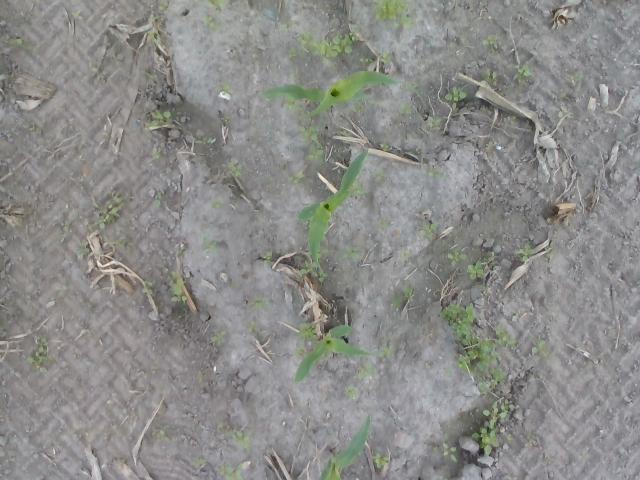Maize: (298, 149, 368, 276), (258, 70, 426, 119), (292, 324, 372, 384), (318, 415, 372, 480)
Weeds: (439, 300, 506, 394), (297, 28, 361, 64), (370, 0, 414, 27), (158, 264, 188, 302), (94, 192, 124, 228), (482, 399, 516, 429), (218, 424, 252, 452), (26, 338, 50, 374), (472, 427, 499, 456), (298, 260, 328, 283), (468, 256, 497, 279), (493, 323, 519, 347), (58, 211, 78, 242), (443, 86, 468, 109), (296, 322, 320, 344), (145, 109, 171, 129), (392, 286, 413, 308), (283, 94, 303, 115), (514, 243, 536, 262), (512, 64, 531, 86), (219, 464, 243, 480), (357, 361, 376, 380), (419, 221, 438, 240), (448, 248, 467, 267), (298, 125, 318, 143), (531, 338, 549, 358), (306, 143, 323, 164), (152, 425, 171, 442), (442, 442, 458, 462), (23, 120, 46, 132), (248, 297, 269, 310), (202, 236, 219, 252), (146, 28, 162, 44), (350, 180, 366, 196), (372, 452, 388, 468), (203, 15, 218, 32), (76, 241, 90, 259), (216, 82, 235, 95), (226, 161, 242, 176), (108, 236, 125, 250), (483, 68, 498, 83), (344, 384, 358, 400), (556, 106, 573, 119), (306, 248, 328, 258), (428, 164, 442, 179), (427, 116, 442, 130), (379, 344, 394, 358), (481, 35, 500, 46), (343, 246, 359, 259), (294, 343, 308, 357), (212, 330, 226, 344), (288, 172, 304, 184), (525, 430, 536, 447), (141, 280, 154, 294), (278, 20, 295, 30), (379, 50, 391, 64), (208, 0, 226, 9), (10, 38, 26, 48), (352, 101, 365, 113), (399, 102, 412, 114), (210, 196, 224, 207), (373, 169, 387, 180), (190, 458, 206, 467), (401, 248, 412, 260), (378, 218, 390, 229), (569, 74, 582, 84), (88, 61, 98, 74), (158, 0, 168, 12), (56, 284, 66, 296), (151, 148, 161, 160), (263, 251, 272, 264), (545, 245, 554, 258), (194, 138, 212, 144), (359, 57, 374, 64), (378, 142, 388, 152), (288, 46, 296, 58), (196, 371, 204, 383), (248, 322, 257, 332), (154, 198, 164, 207), (176, 247, 186, 256), (85, 300, 94, 309), (507, 116, 517, 124), (368, 98, 381, 104), (261, 174, 273, 180), (290, 70, 299, 78), (483, 287, 492, 294), (220, 116, 230, 122), (414, 148, 422, 155), (512, 309, 520, 316), (506, 434, 514, 441), (324, 350, 332, 356), (150, 364, 158, 370), (146, 73, 154, 79), (487, 142, 496, 147), (439, 475, 448, 480), (425, 362, 431, 369), (340, 131, 348, 136), (434, 446, 440, 452), (230, 52, 235, 58)
